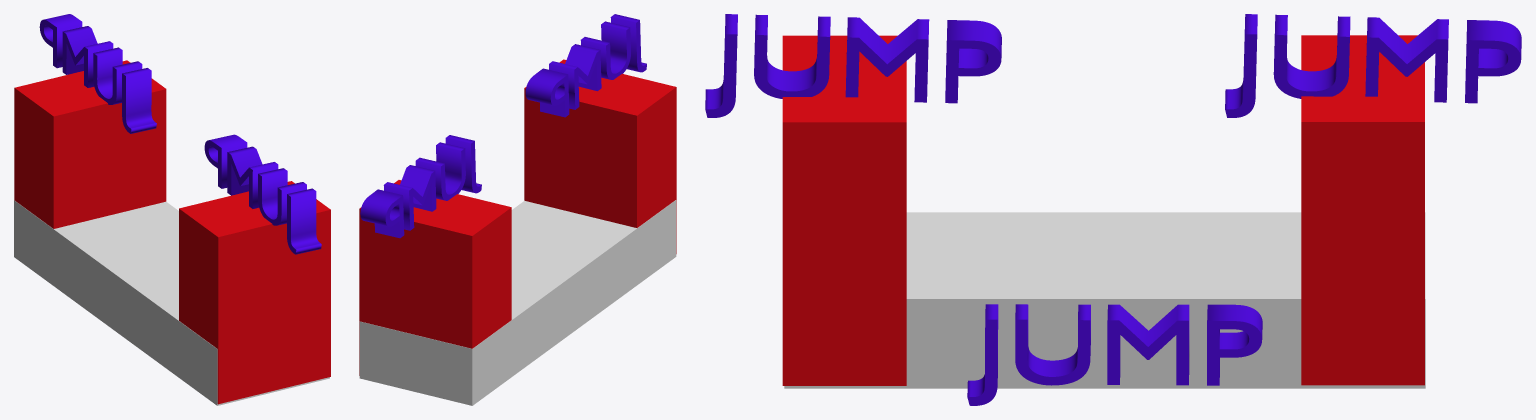
Rendered from obstacle_2.fbx.
3 renders of one model, left to right at view 1: azimuth 30°, elevation 25°; view 2: azimuth 150°, elevation 25°; view 3: azimuth 270°, elevation 25°, orthographic. The views are drawn at different scales.
Visible parts, largest first — view 1: Cube.001, Cube, Cube.002, JUMP.001, JUMP.002; view 2: Cube, Cube.002, Cube.001, JUMP.001, JUMP.002; view 3: Cube, Cube.001, Cube.002, JUMP.001, JUMP.002, JUMP.
Part boxes in pixels (x1,y1,x2,y2): Cube.001: (179,181,330,404); Cube: (14,200,329,405); Cube.002: (14,60,166,228); JUMP.001: (204,134,321,254); JUMP.002: (39,14,156,133); Cube: (359,200,676,405); Cube.002: (359,180,511,375); Cube.001: (524,59,676,253); JUMP.001: (525,14,646,117); JUMP.002: (360,135,481,238); Cube: (784,212,1425,388); Cube.001: (782,35,906,385); Cube.002: (1301,35,1424,385); JUMP.001: (705,14,1001,117); JUMP.002: (1225,14,1521,117); JUMP: (967,304,1262,405).
Bounding box in the file's own units: 244 × 356 × 796.
